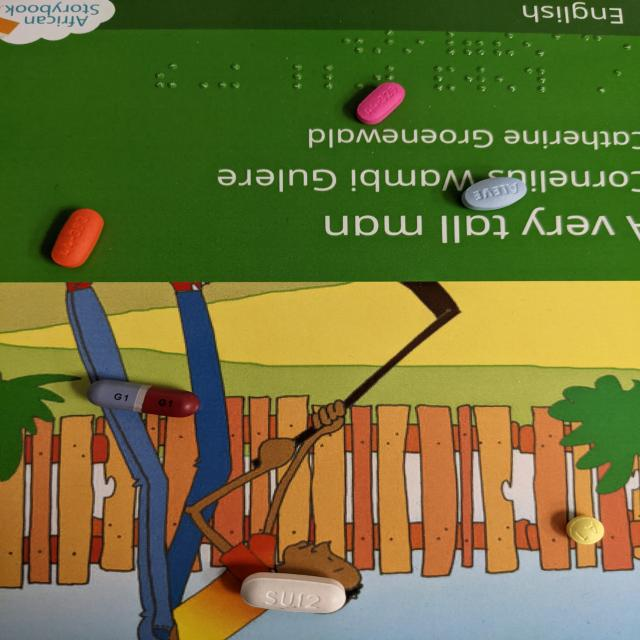non-organic waste: (85, 378, 202, 419), (239, 571, 347, 615), (48, 207, 106, 269), (459, 175, 530, 212), (356, 80, 407, 126), (564, 515, 607, 546)
